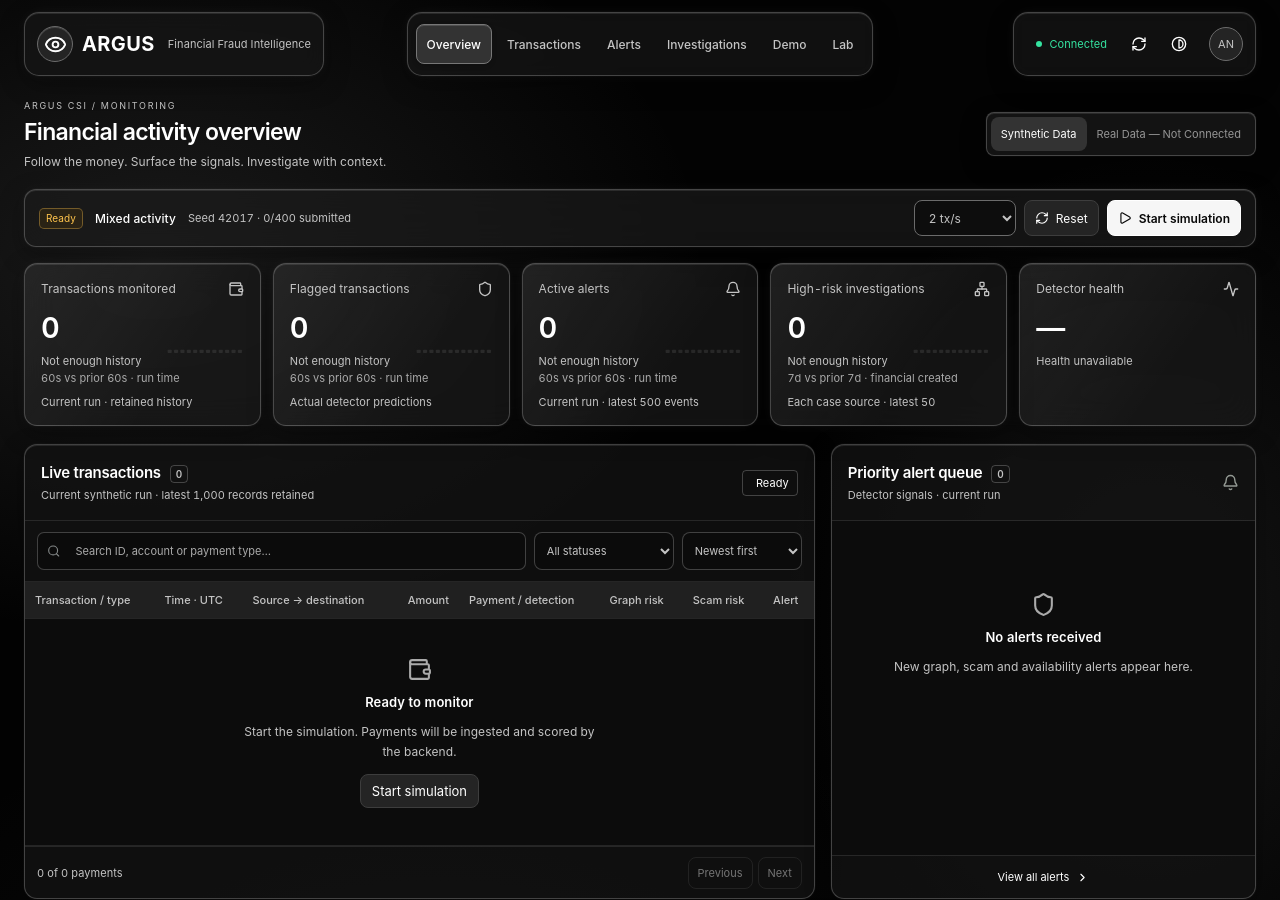
live KPI trends › keeps Ready empty, updates on accepted payments/results, freezes on pause and clears run trends on reset
The image size is (1280, 900).
Expected: the element that starts with "Transactions monitored" shows "Not enough history", top-left (41, 354), bottom-right (141, 368)
Click the button "Start simulation" in the row of "submitted" at x=1174, y=218, box top-left (1107, 200), bottom-right (1241, 236)
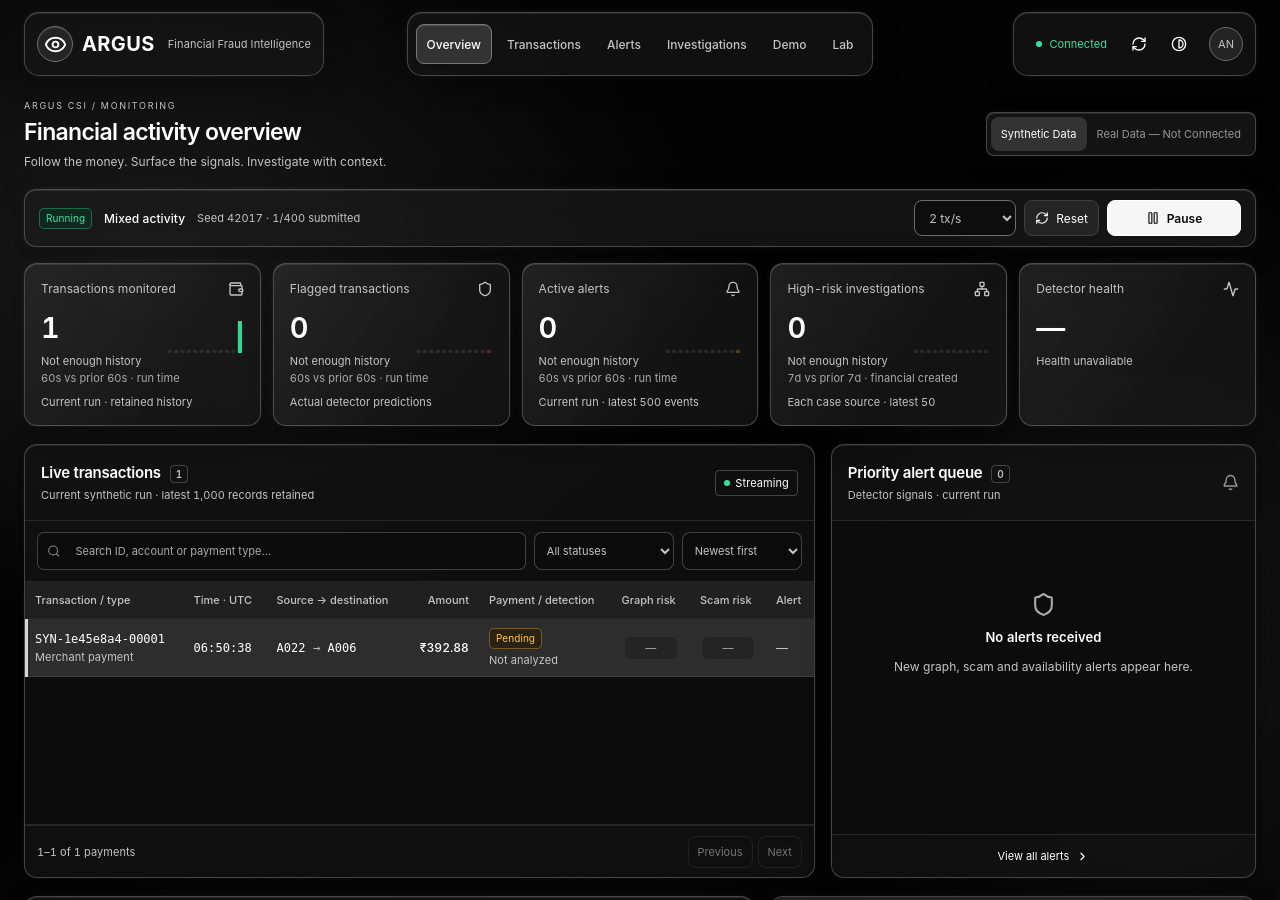
Click the button "Pause" at x=1174, y=218, box top-left (1107, 200), bottom-right (1241, 236)
Wait 5000 ms
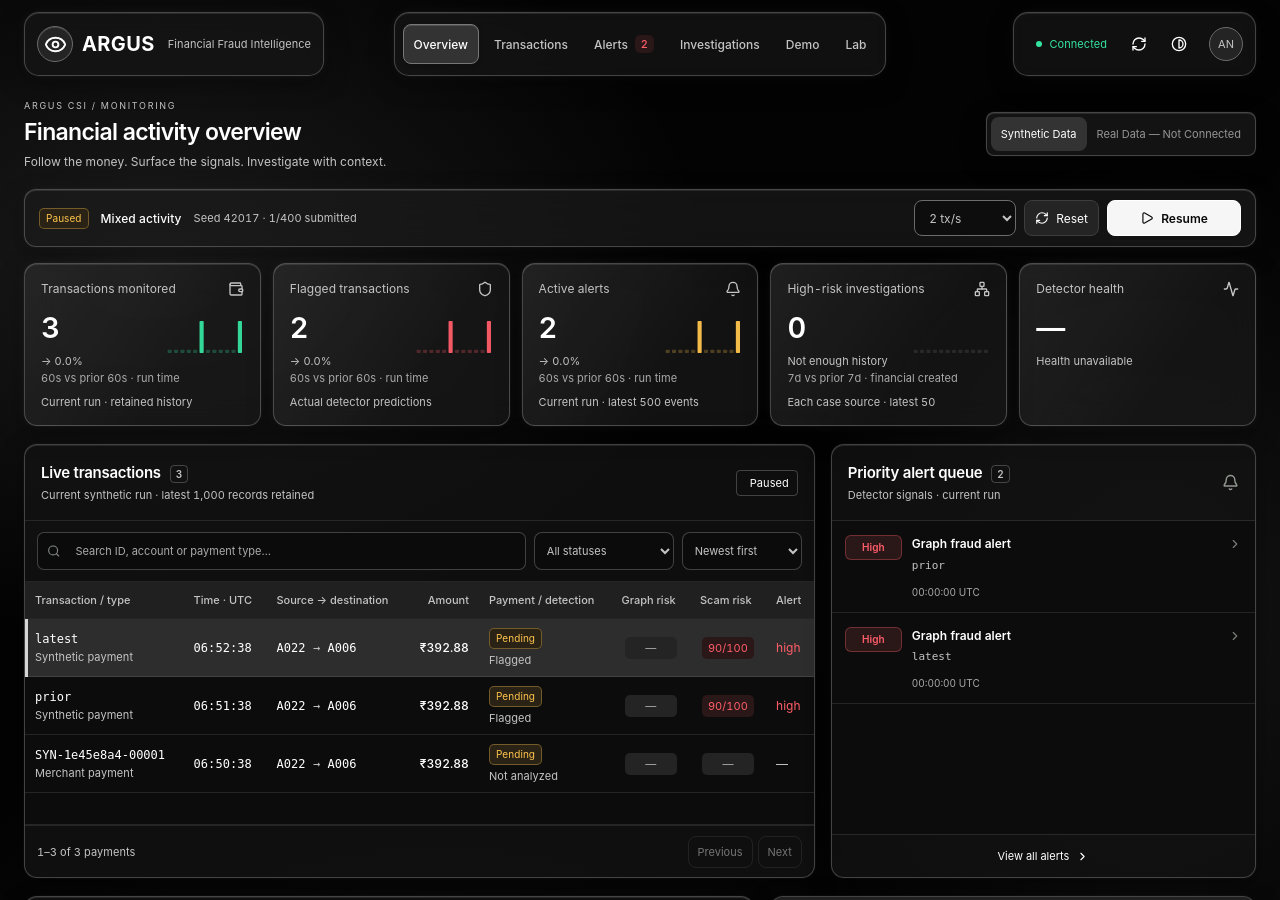
Expected: the text "3" below "Transactions monitored" is shown, top-left (41, 310), bottom-right (59, 345)
Expected: the element named "Bucket 1: 0Bucket 2: 0Bucket 3: 0Bucket 4: 0Bucket 5: 0Bucke" shows "→ 0.0%", top-left (41, 354), bottom-right (83, 368)
Expected: the text "2" below "Flagged transactions" is shown, top-left (290, 310), bottom-right (308, 345)
Click the button "Reset" at x=1062, y=218, box top-left (1024, 200), bottom-right (1099, 236)
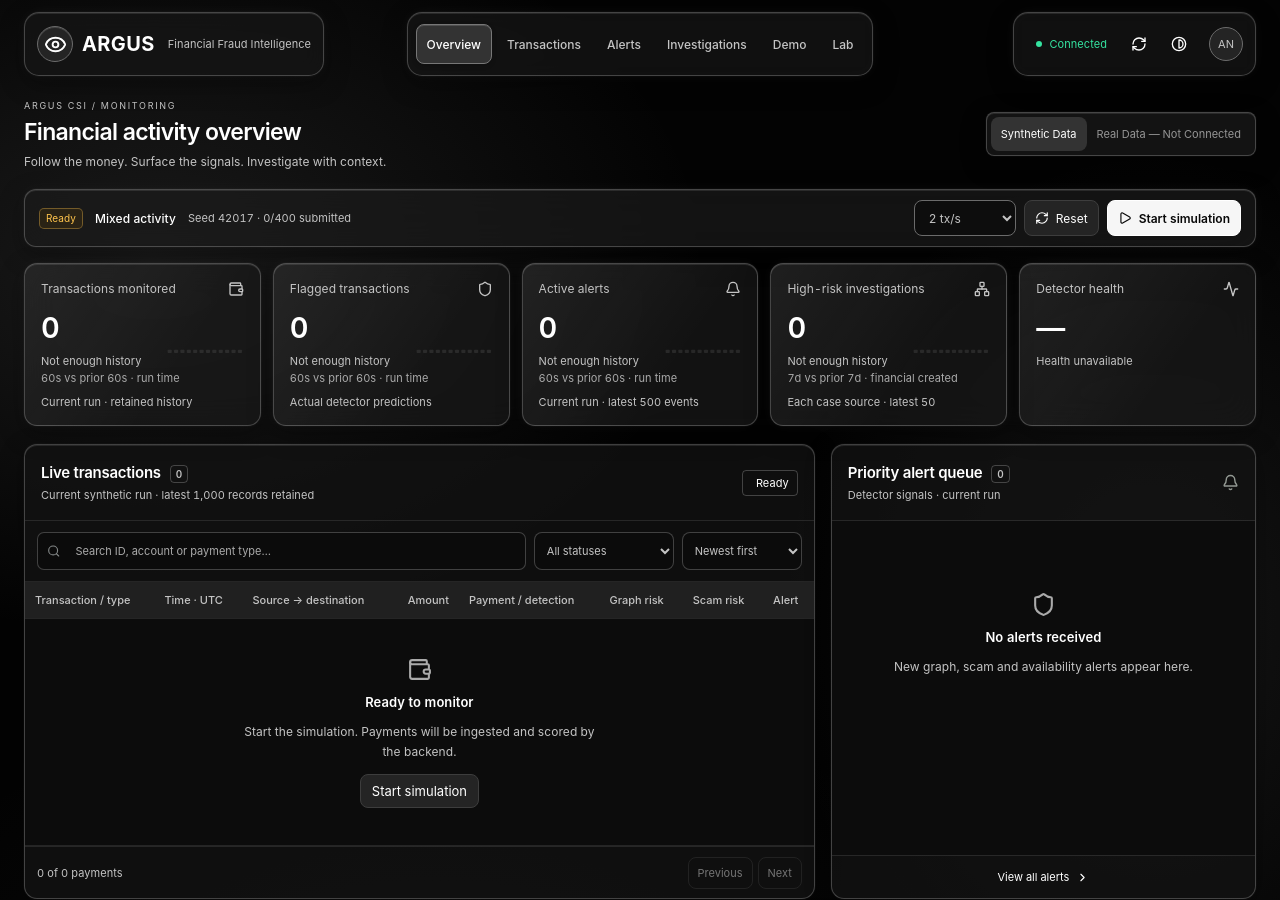
Expected: the text "0" below "Transactions monitored" is shown, top-left (41, 310), bottom-right (59, 345)
Expected: the element that starts with "Transactions monitored" shows "Not enough history", top-left (41, 354), bottom-right (141, 368)
Expected: the element named "Simulation controls" shows "Ready", top-left (46, 212), bottom-right (76, 224)
